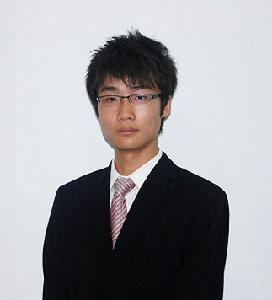unmask: (95, 76, 165, 149)
